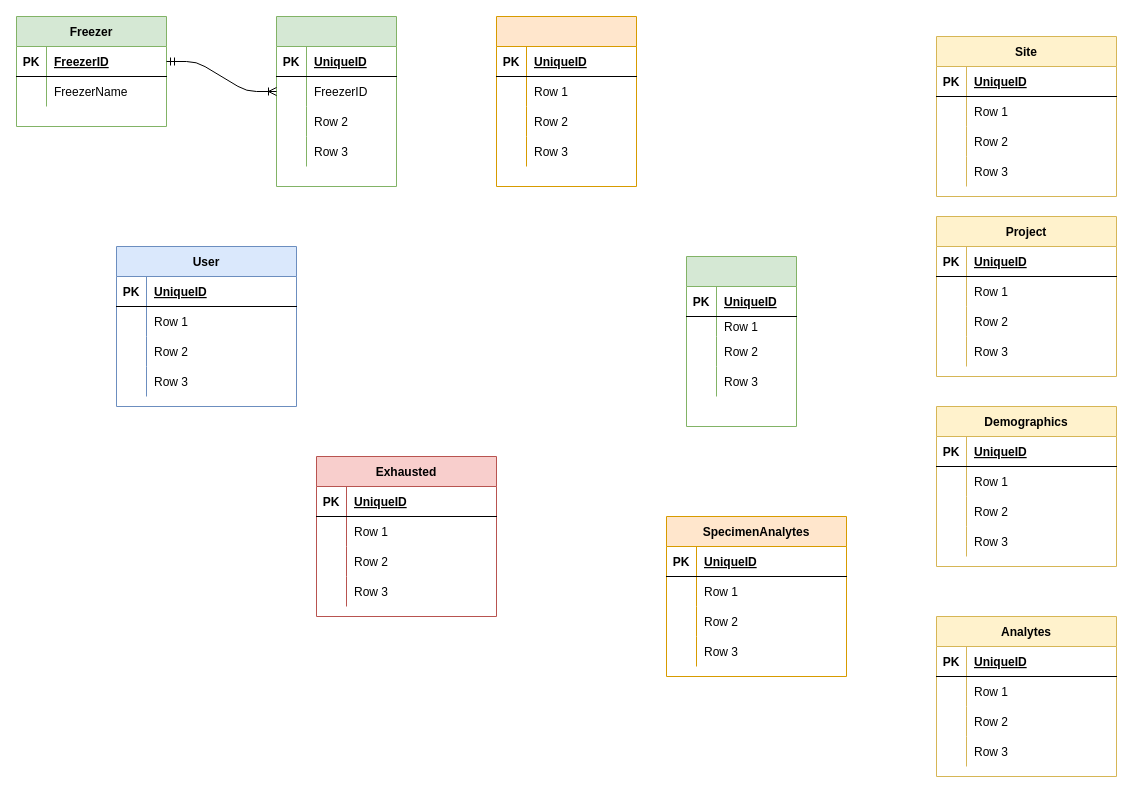
Image size: 1133x793. Some labels were removed from this diagram. The shapes that lost their labels are listed below. From the top down, each one's box as (x1, y1, x2, y2) in pixels, then its label:
(276, 16, 396, 186): Location
(496, 16, 636, 186): SpecimenLocation
(686, 256, 796, 426): Specimen
